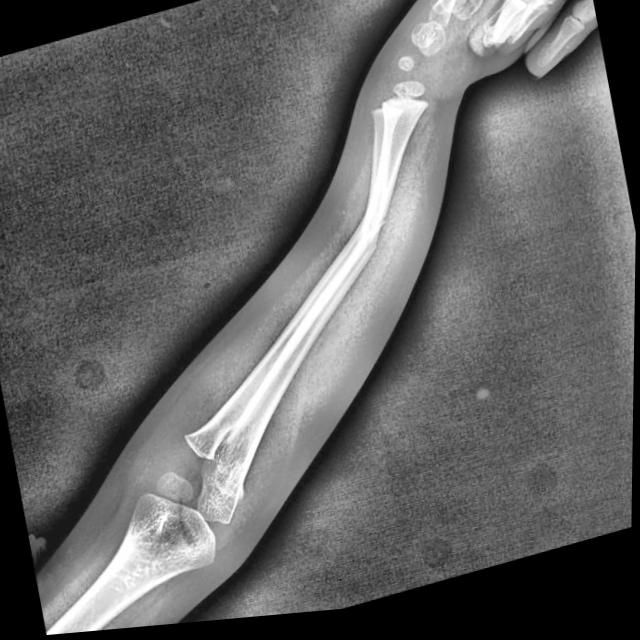fracture: (353, 222, 390, 259)
